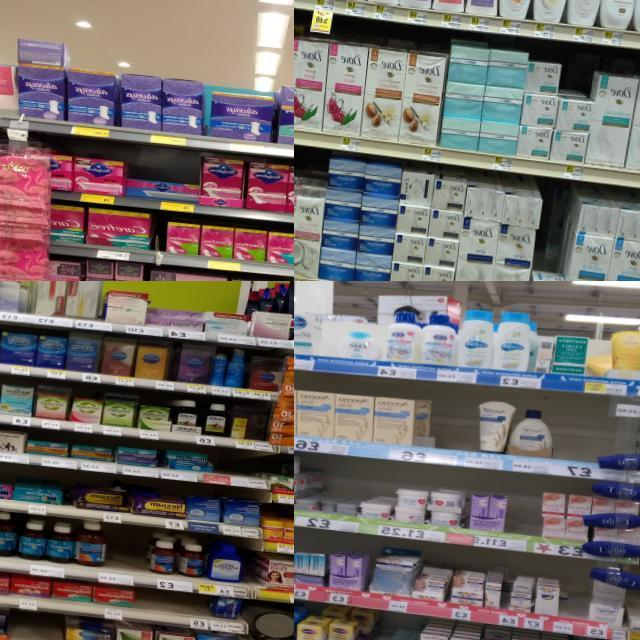empty: (550, 398, 602, 478), (432, 388, 478, 468), (502, 477, 544, 552), (134, 589, 208, 628), (104, 526, 148, 586), (214, 450, 262, 488), (562, 578, 592, 636), (11, 609, 62, 640), (366, 627, 389, 640)
